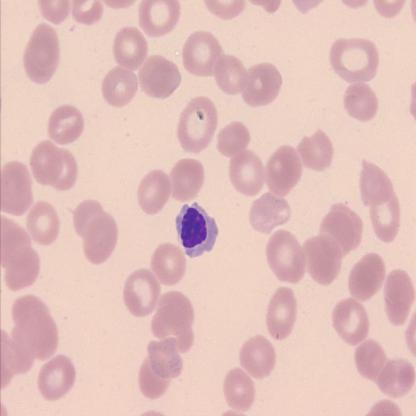NRC: (173, 200, 219, 258)
